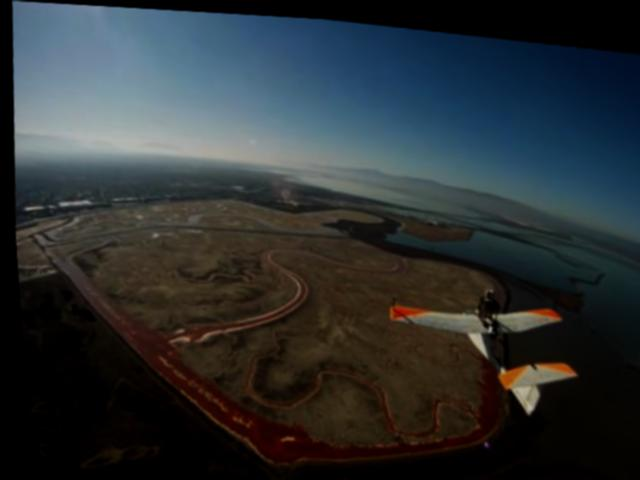uav: (373, 272, 588, 424)
